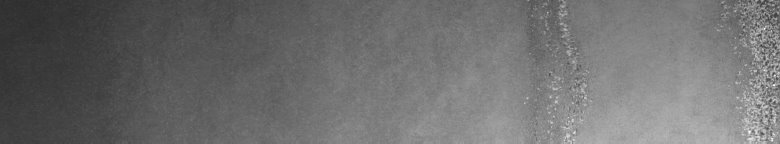hc: (715, 4, 776, 136)
